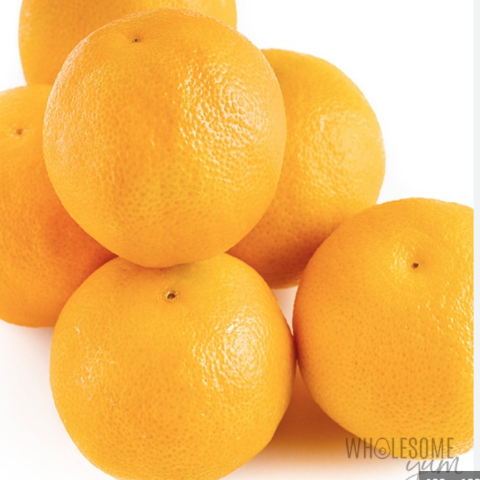orange: (36, 242, 333, 479), (33, 10, 303, 268), (289, 156, 480, 459)
